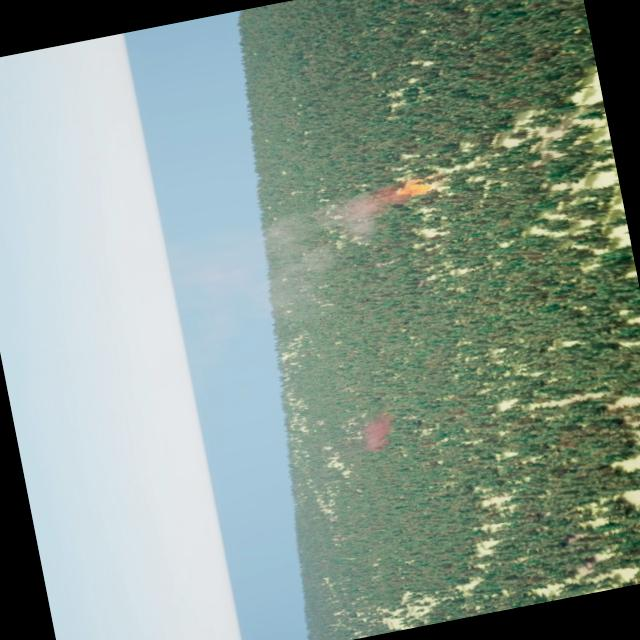fire: (395, 175, 438, 200)
smoke: (162, 183, 420, 356), (353, 410, 402, 454)
